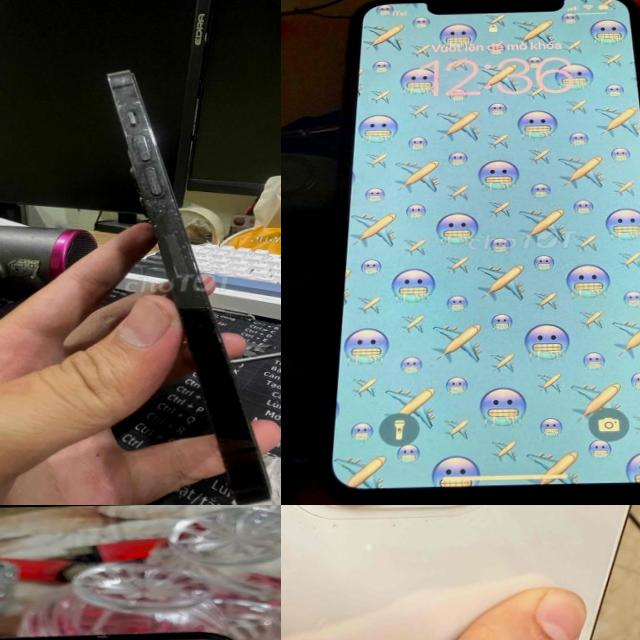physical_damage: (46, 635, 85, 640)
scratch: (102, 71, 210, 294), (75, 630, 114, 640)
